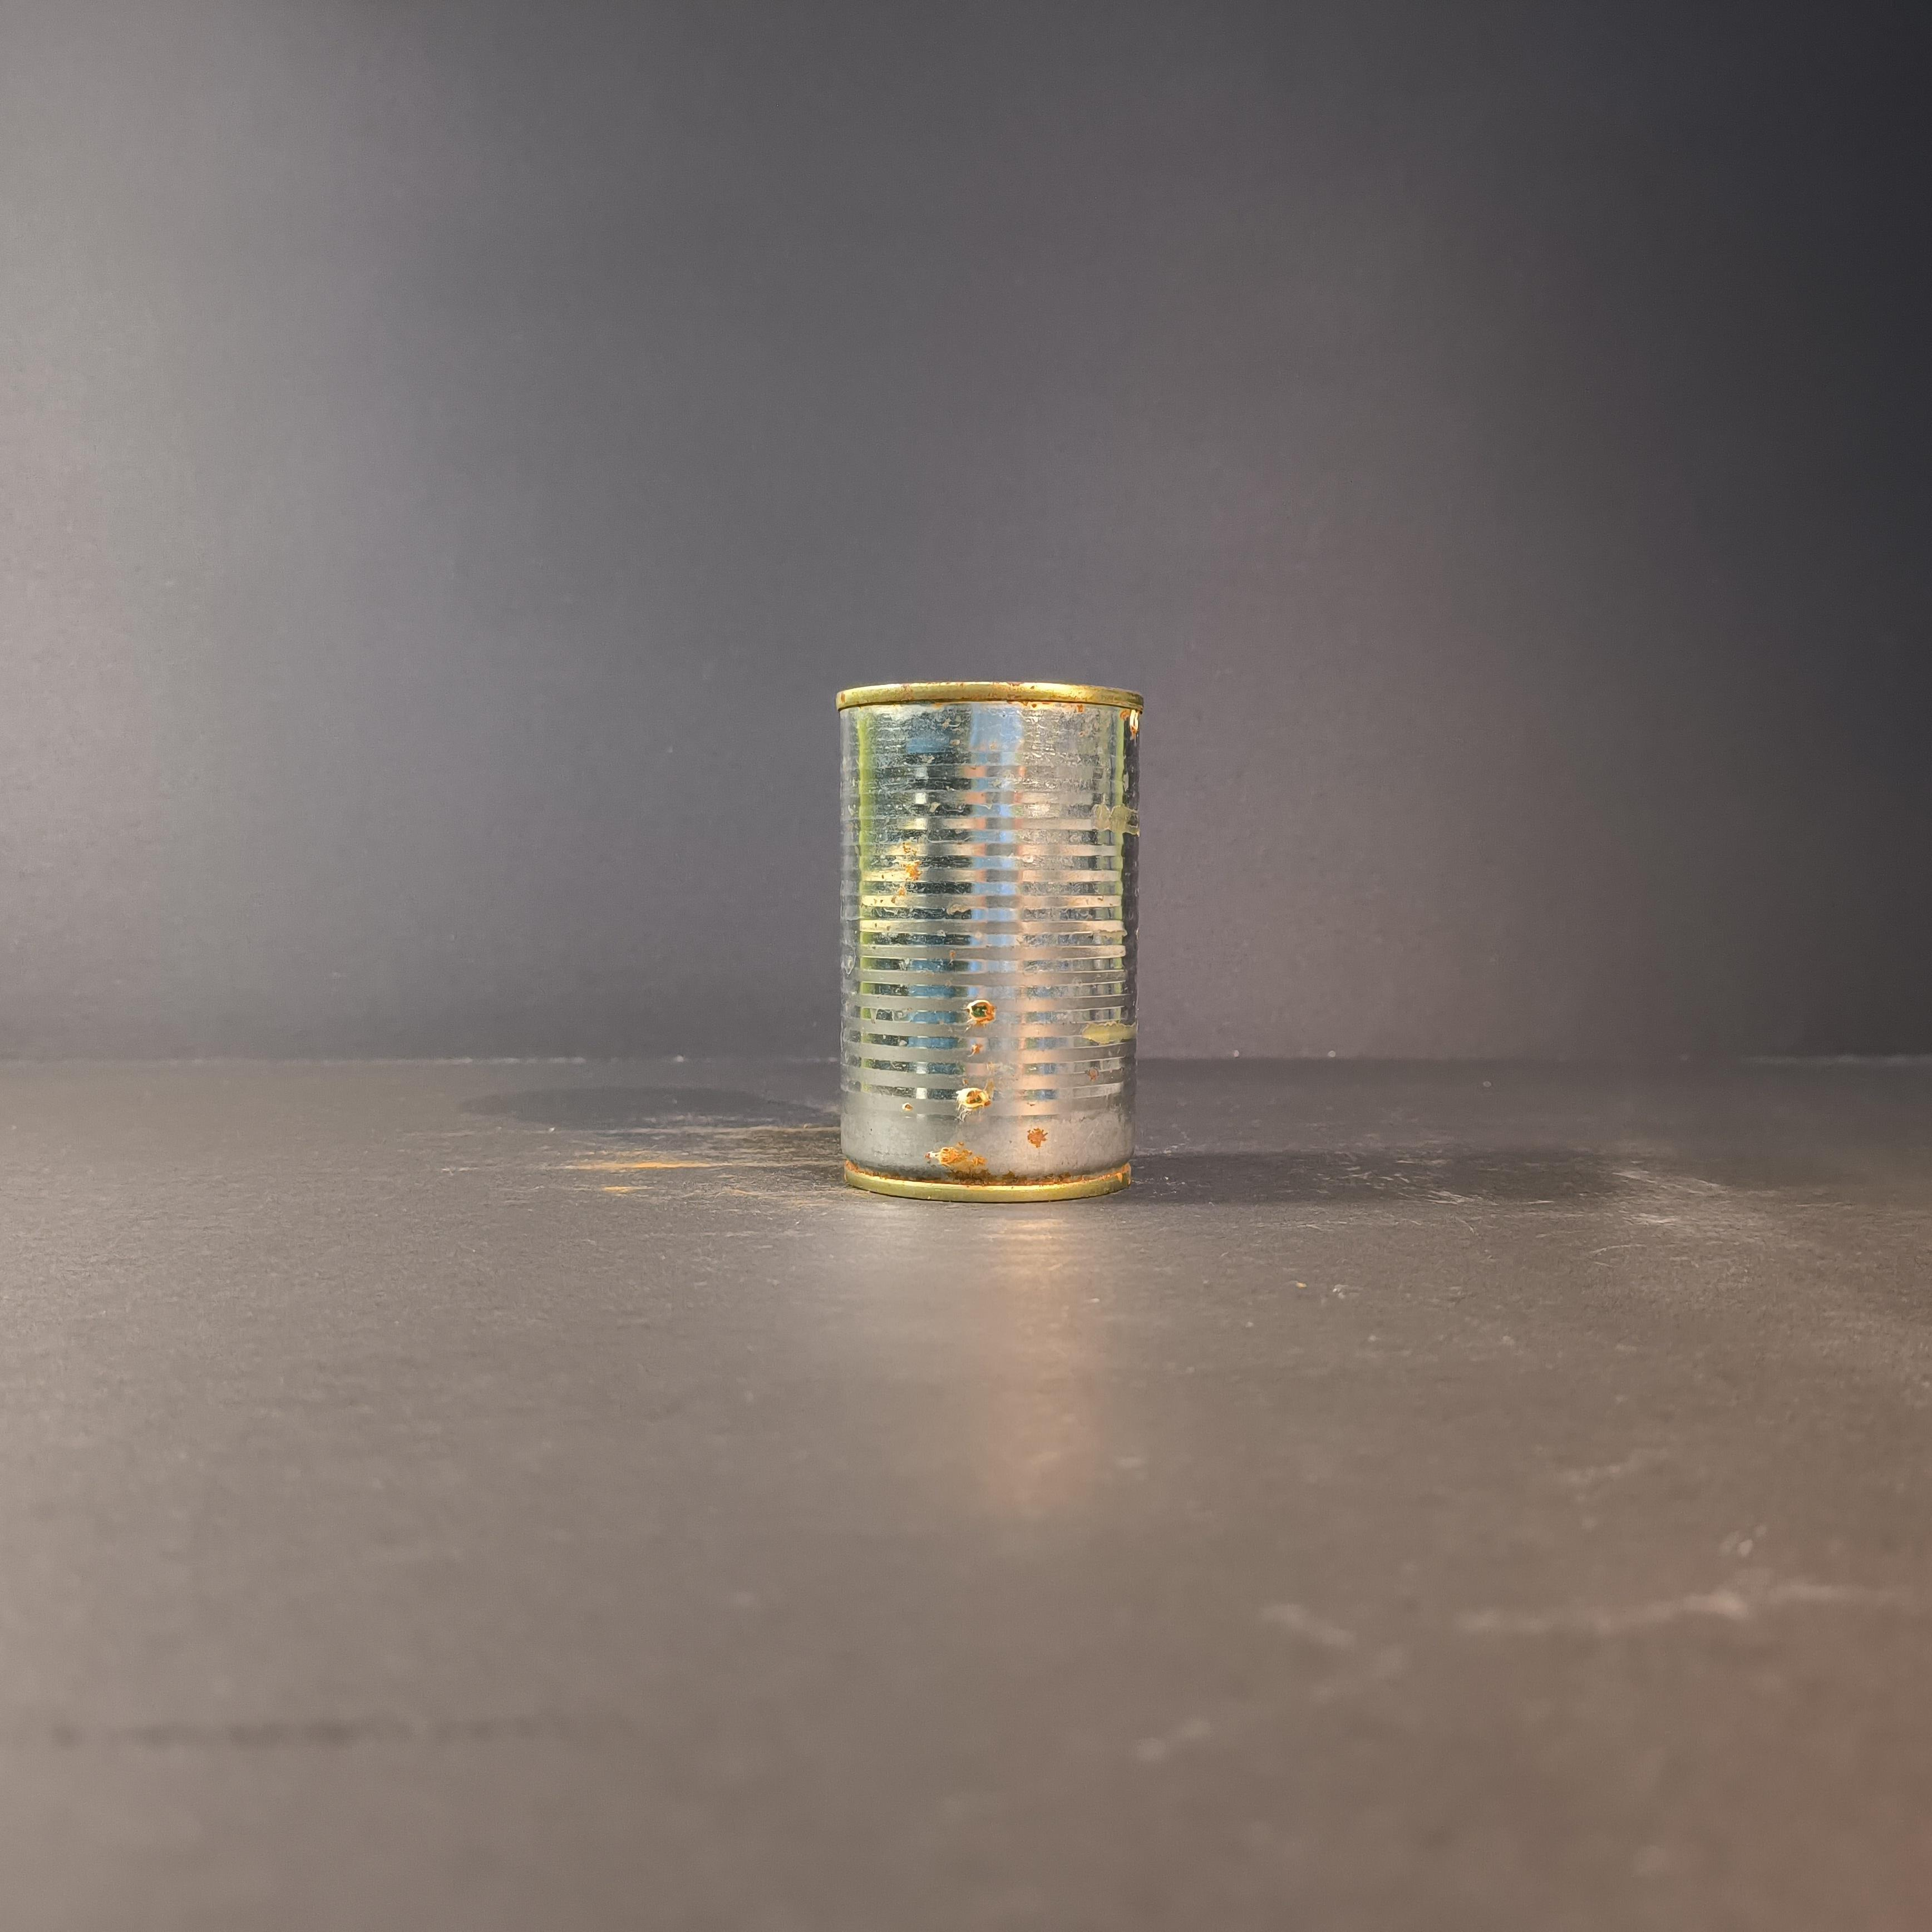Rusted: (817, 667, 1152, 1207)
